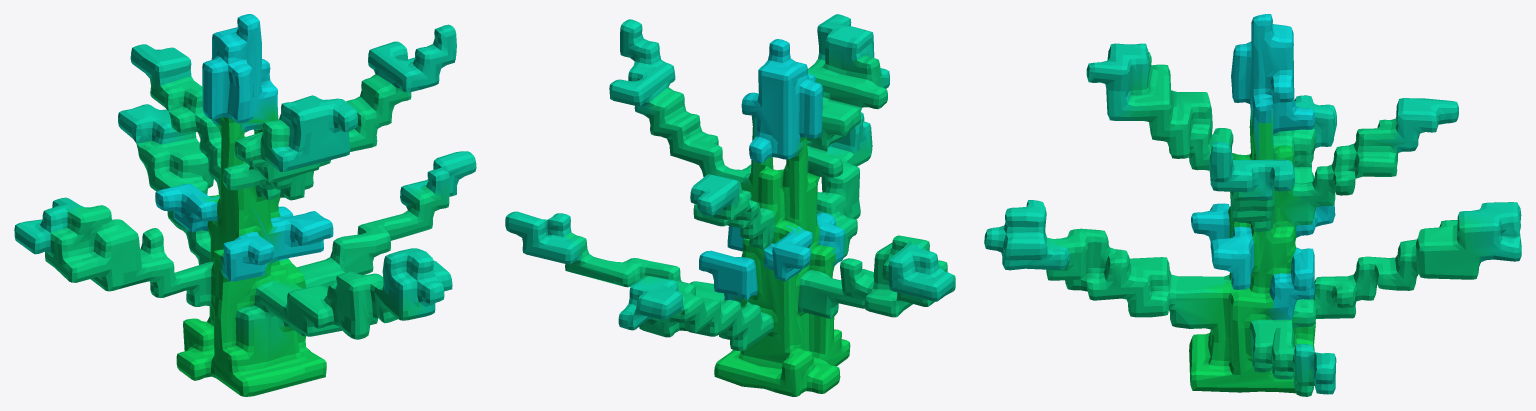
Rendered from Coral_plant.glb.
The picture shows the model from 3 angles, left to right: view 1: azimuth 30°, elevation 25°; view 2: azimuth 150°, elevation 25°; view 3: azimuth 270°, elevation 25°; orthographic projection. The views are drawn at different scales.
Visible parts, largest first — view 1: __playground; view 2: __playground; view 3: __playground.
Boxes of the visible parts, bbox=[...] form: __playground: bbox=[14, 14, 476, 396]; __playground: bbox=[505, 14, 955, 396]; __playground: bbox=[984, 14, 1521, 396].
Size of the model in its own units: 1.02 by 0.7468 by 1.02.
